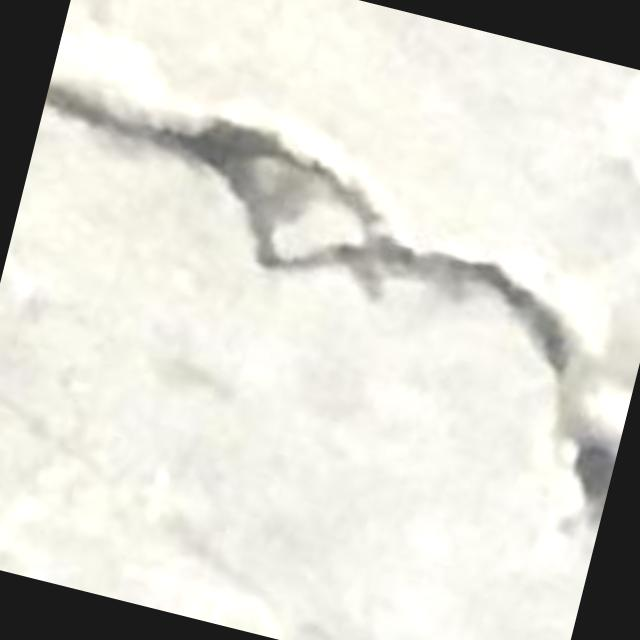crack: (46, 85, 619, 522)
